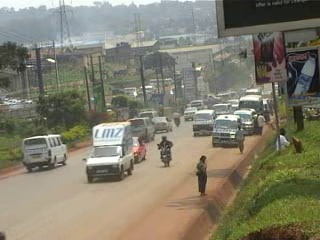Car: (133, 135, 147, 163), (152, 116, 173, 134), (182, 105, 200, 120)
Motorcycle: (156, 142, 171, 168), (174, 117, 180, 127)
